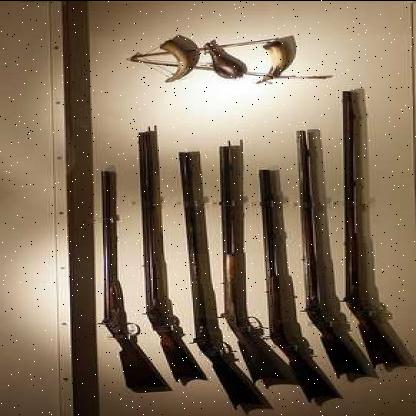rifle: (121, 108, 216, 379), (80, 153, 170, 394)
